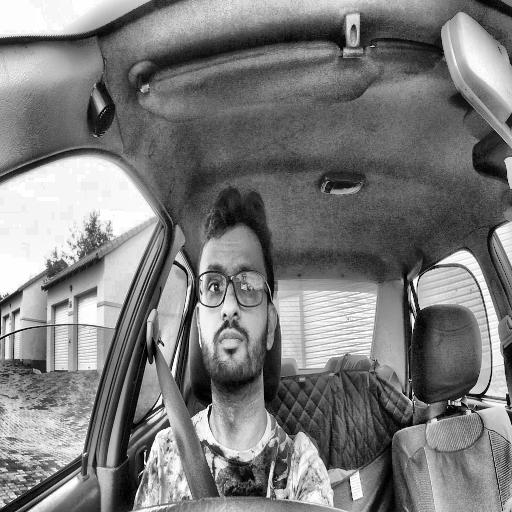awake: (195, 186, 277, 392)
